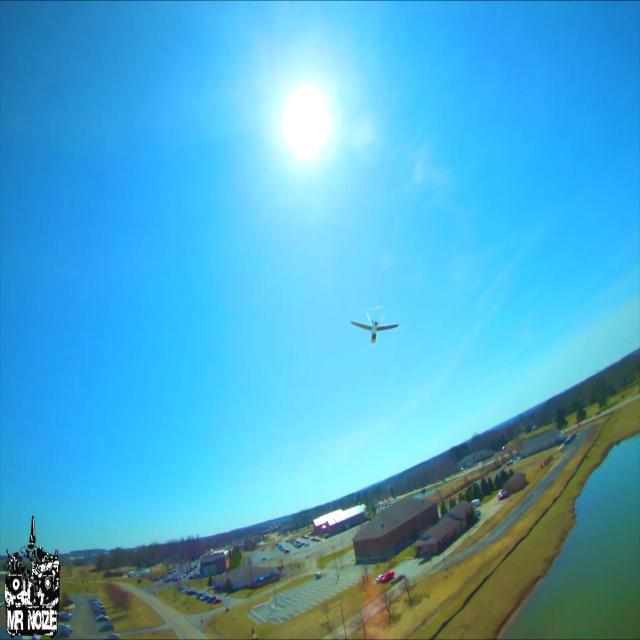iha: (345, 302, 402, 349)
